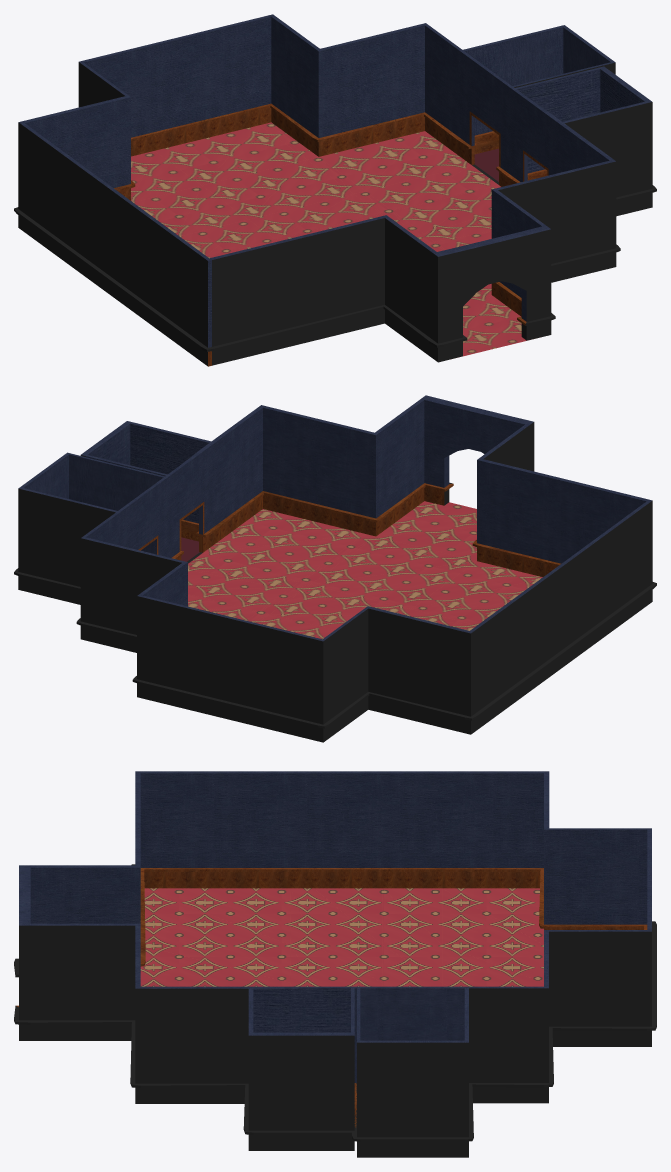
Rendered from Level.fbx.
The picture shows the model from 3 angles, top to bottom: view 1: azimuth 30°, elevation 25°; view 2: azimuth 150°, elevation 25°; view 3: azimuth 270°, elevation 25°; orthographic projection. The views are drawn at different scales.
Parts seen in each view (by area): view 1: Wall.114; view 2: Wall.114; view 3: Wall.114.
Boxes of the visible parts, bbox=[...] form: Wall.114: bbox=[14, 14, 656, 366]; Wall.114: bbox=[14, 395, 656, 742]; Wall.114: bbox=[14, 771, 656, 1157].
Size of the model in its own units: 3929 by 767 by 3874.
